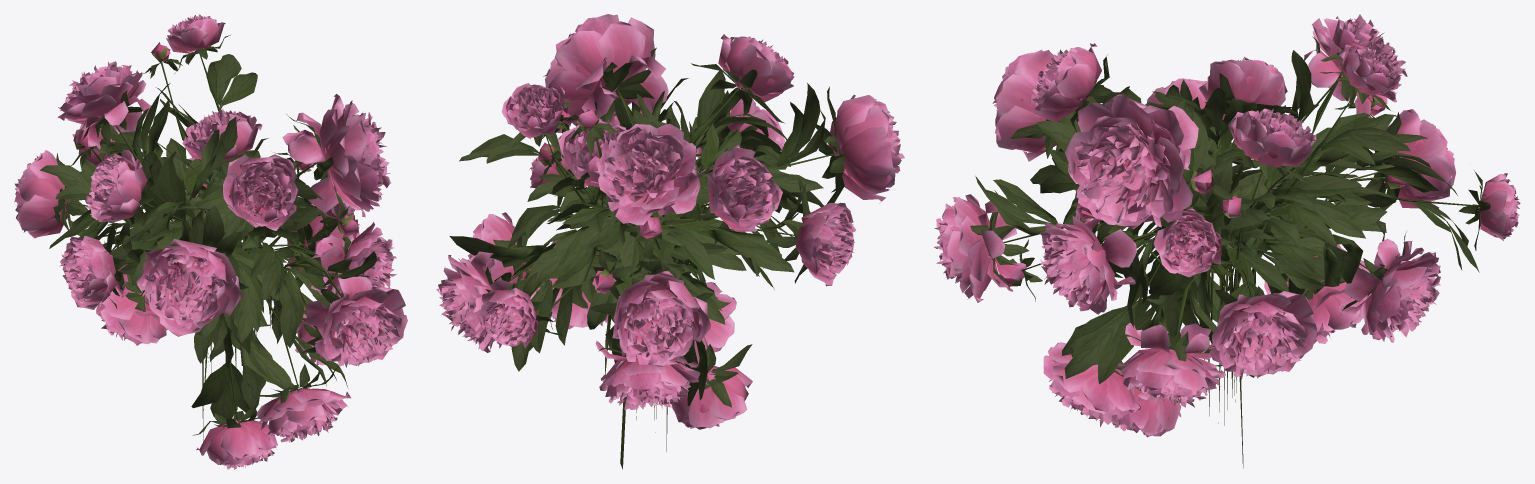
3 renders of one model, left to right at view 1: azimuth 30°, elevation 25°; view 2: azimuth 150°, elevation 25°; view 3: azimuth 270°, elevation 25°, orthographic. The views are drawn at different scales.
Visible parts, largest first — view 1: MD-牡丹; view 2: MD-牡丹; view 3: MD-牡丹.
Boxes of the visible parts, box(x1,y1,x2,y2) form: MD-牡丹: box(14, 14, 407, 469); MD-牡丹: box(436, 14, 904, 469); MD-牡丹: box(934, 14, 1520, 468).
Size of the model in its own units: 0.4092 by 0.5823 by 0.4743.
